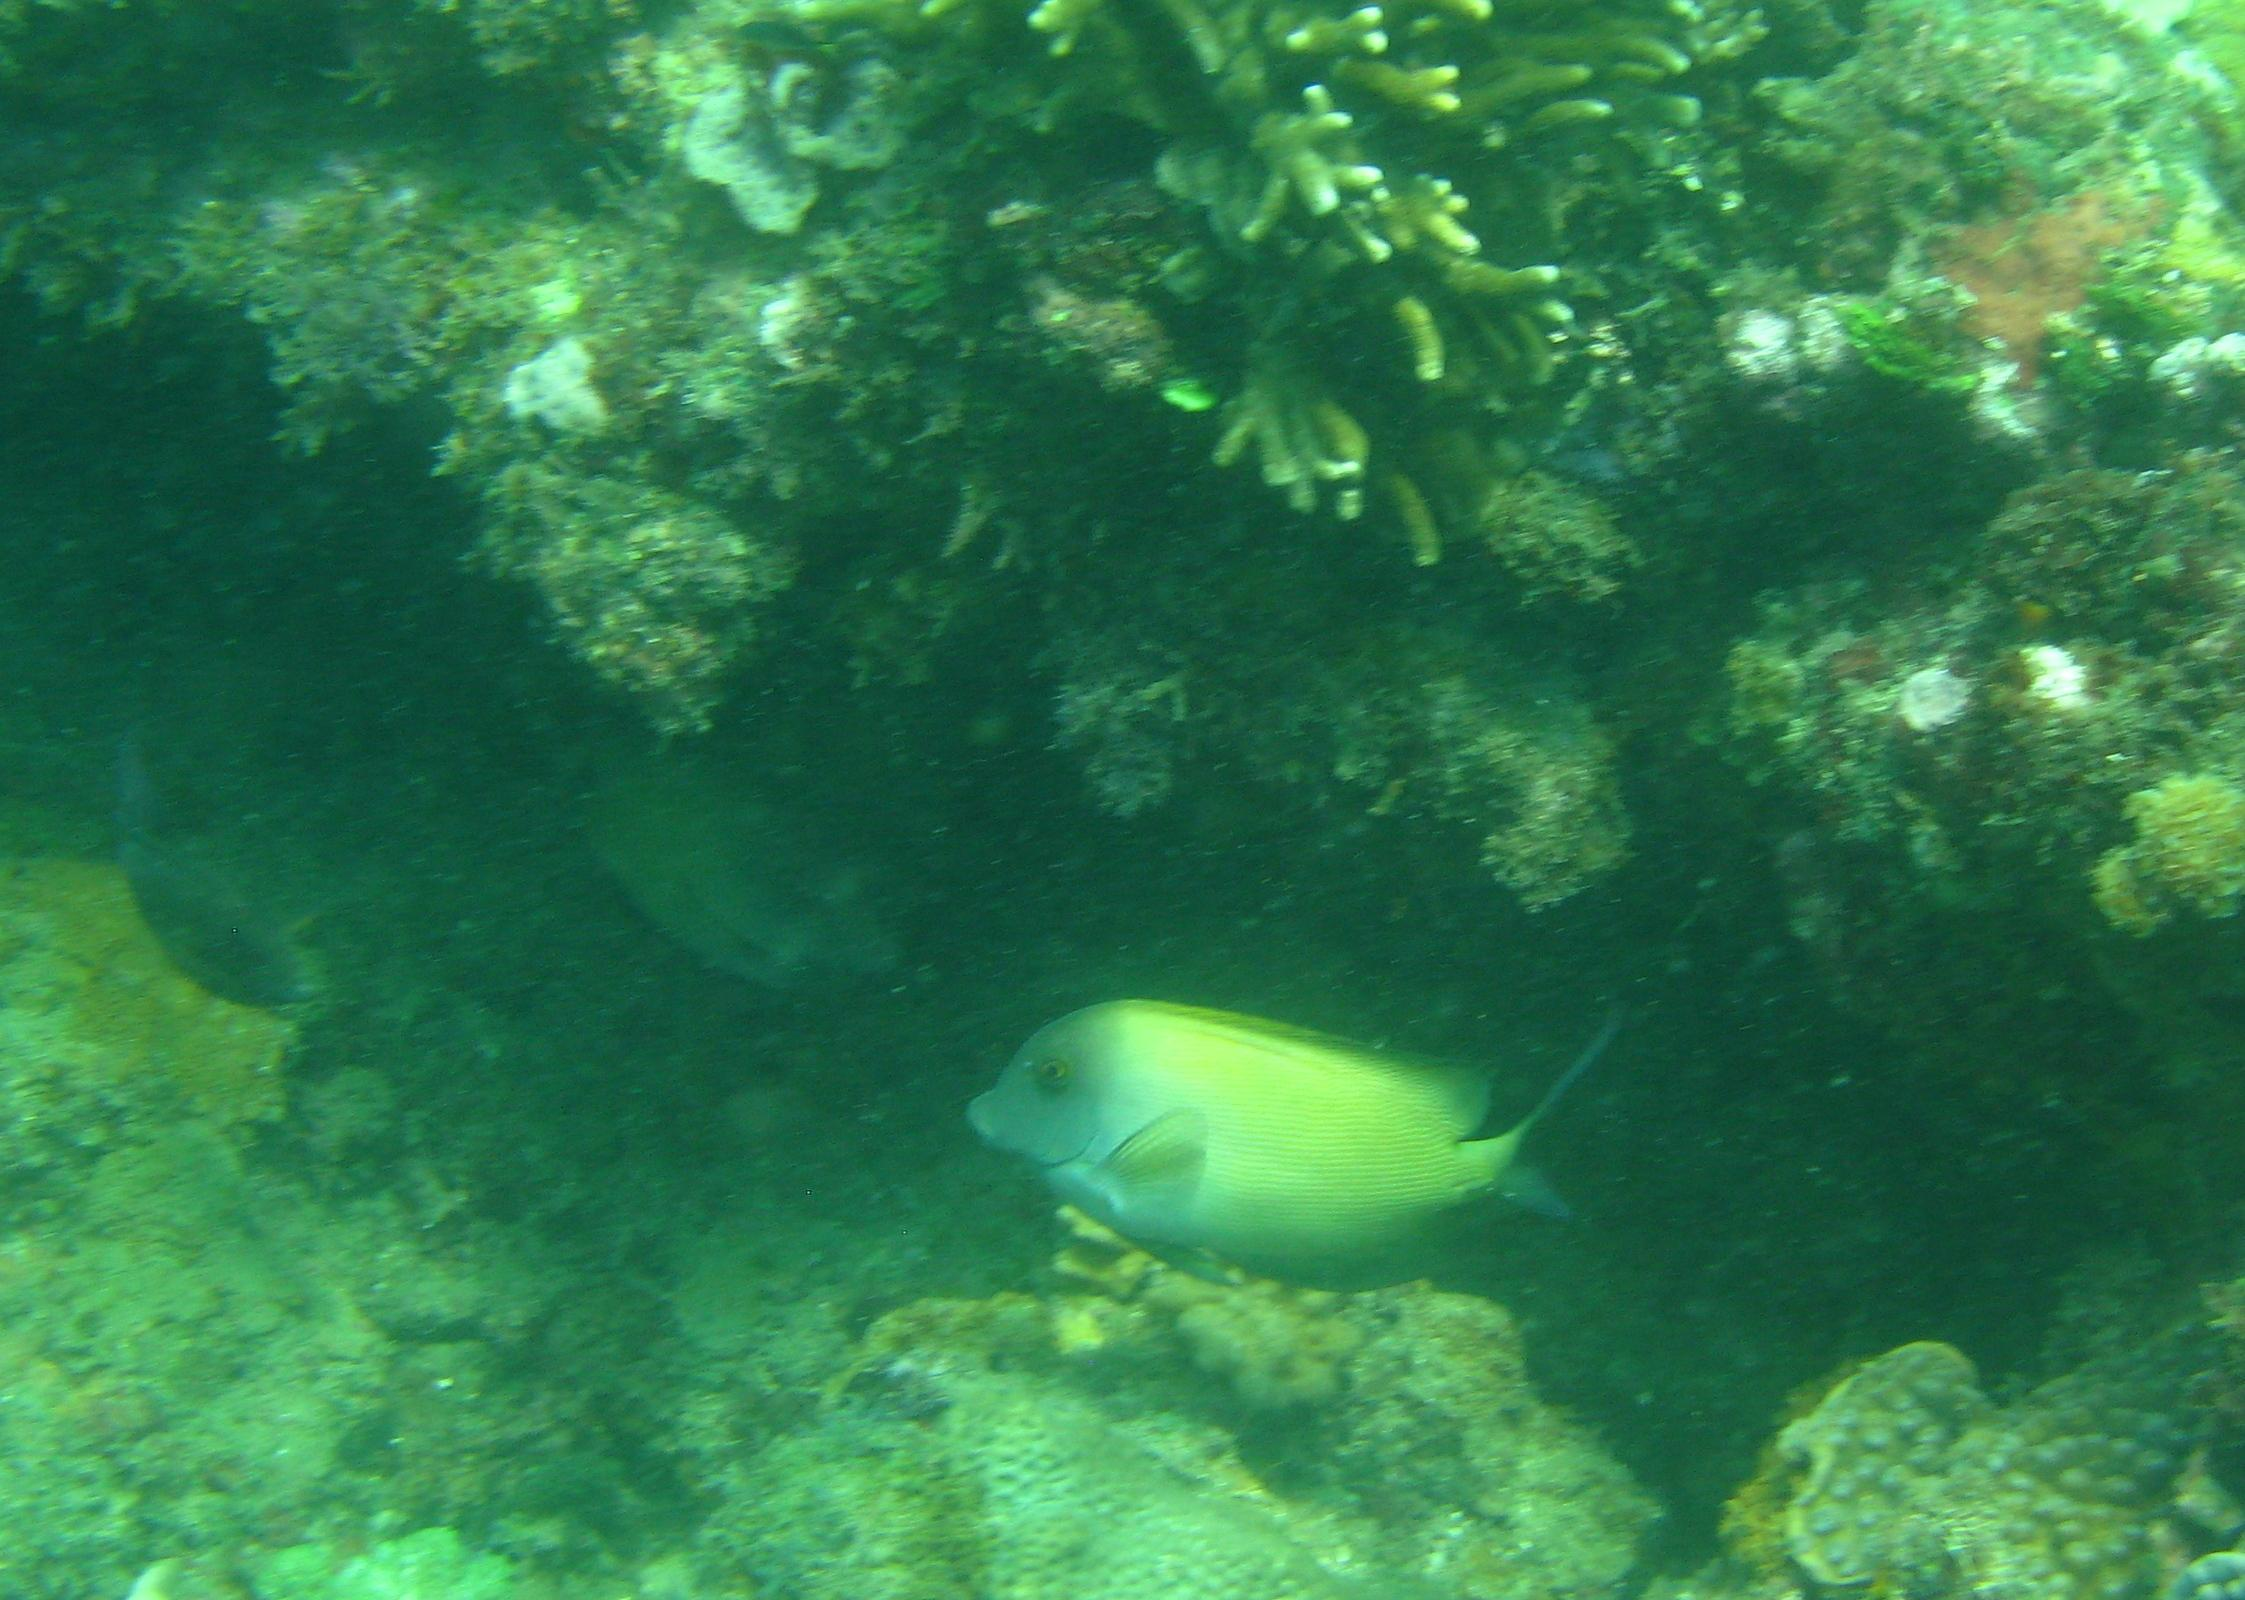Fish: (955, 952, 1684, 1307)
